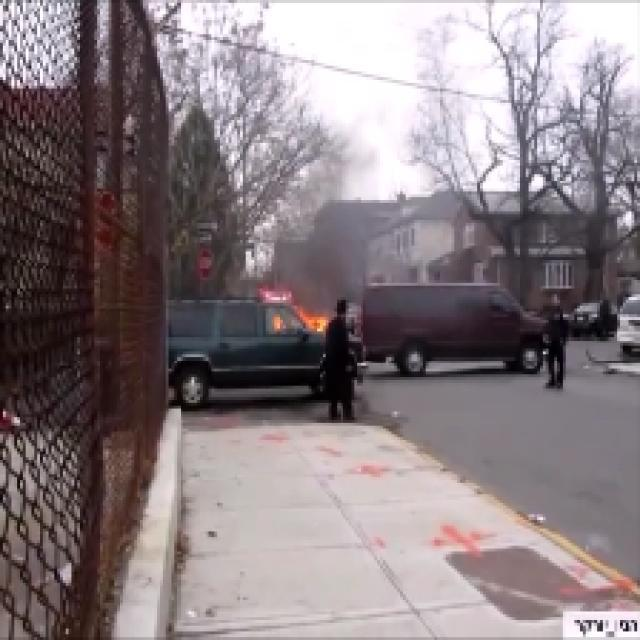Fire: (260, 303, 340, 343)
Smoke: (280, 160, 403, 329)
